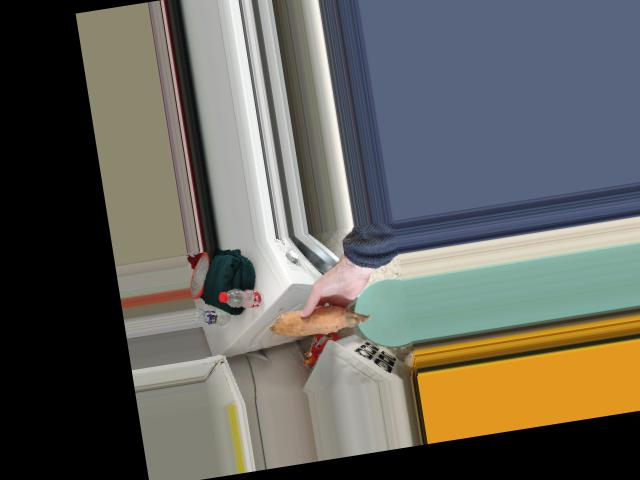sweet_potato: (279, 296, 363, 339)
